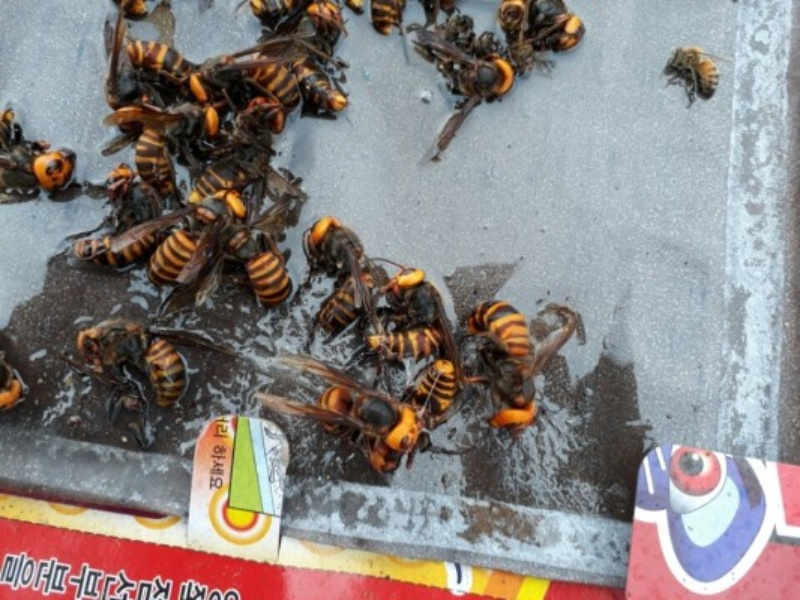asian_giant_hornet: (459, 288, 543, 436), (71, 312, 189, 406), (365, 358, 458, 476), (299, 213, 381, 336), (149, 184, 246, 286), (74, 160, 161, 267), (134, 99, 227, 196), (315, 378, 429, 456), (363, 260, 450, 362), (284, 2, 354, 117), (188, 51, 303, 116), (2, 106, 78, 200), (219, 216, 294, 309), (129, 33, 231, 99), (497, 2, 590, 56), (437, 44, 519, 102), (243, 2, 344, 28), (2, 348, 30, 411), (369, 2, 407, 34), (111, 2, 171, 21)
